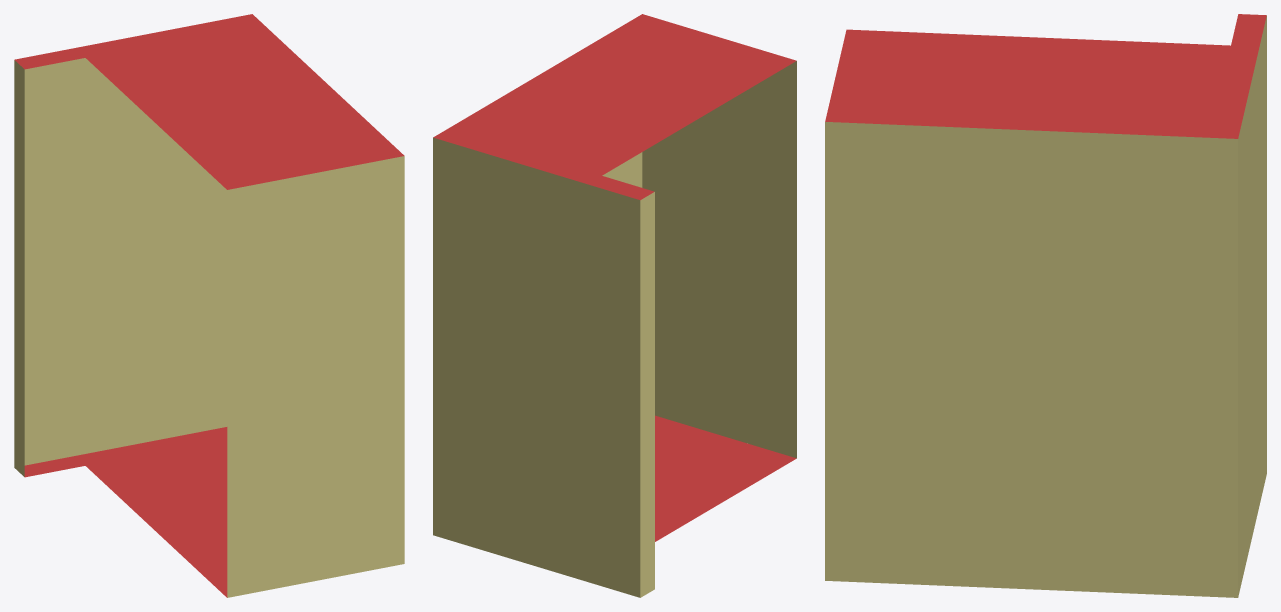
The picture shows the model from 3 angles, left to right: view 1: azimuth 30°, elevation 25°; view 2: azimuth 150°, elevation 25°; view 3: azimuth 270°, elevation 25°; orthographic projection. The views are drawn at different scales.
Parts seen in each view (by area): view 1: group_4, group_3, group_5; view 2: group_4, group_3, group_5; view 3: group_4, group_3.
Part boxes in pixels (x1,y1,x2,y2): group_4: (14,58,404,597); group_3: (14,14,404,189); group_5: (24,427,227,597); group_4: (433,61,796,597); group_3: (433,14,796,200); group_5: (655,415,796,541); group_4: (825,15,1266,597); group_3: (825,14,1266,138).
Bounding box in the file's own units: 5.37 × 8.01 × 9.19.
